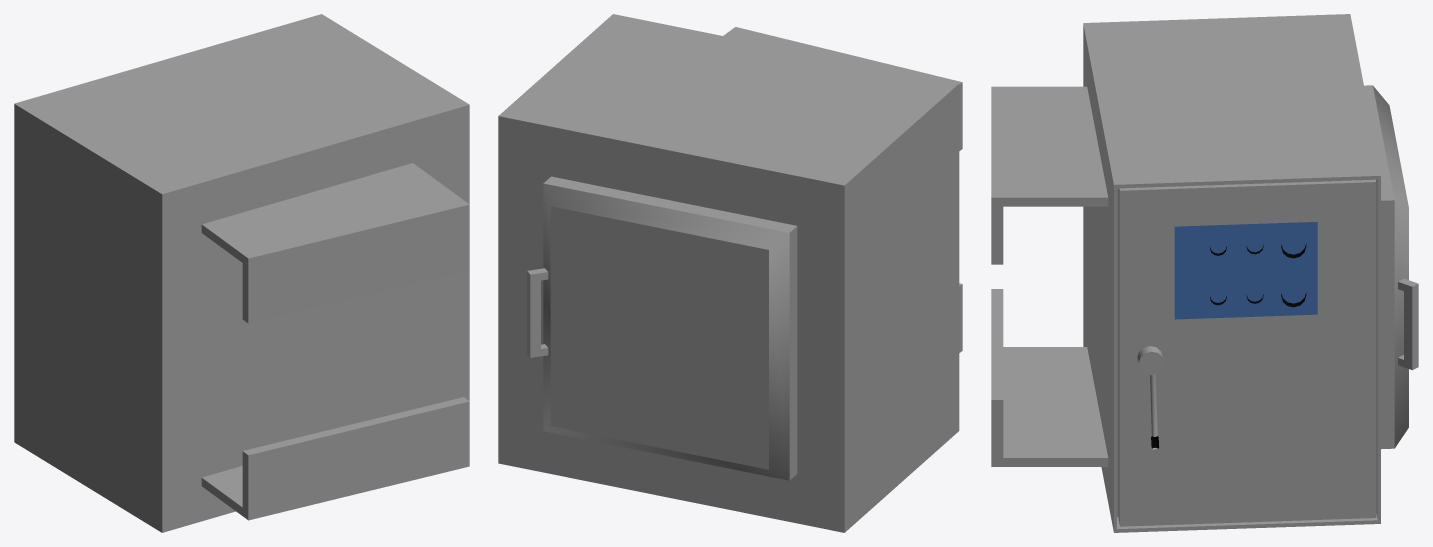
3 renders of one model, left to right at view 1: azimuth 30°, elevation 25°; view 2: azimuth 150°, elevation 25°; view 3: azimuth 270°, elevation 25°, orthographic. The views are drawn at different scales.
Visible parts, largest first — view 1: Cube.001; view 2: Cube.001; view 3: Cube.001.
Boxes of the visible parts, <box> form: Cube.001: <box>14,14,469,532</box>; Cube.001: <box>498,14,962,532</box>; Cube.001: <box>991,14,1418,532</box>.
Size of the model in its own units: 70.43 by 65 by 72.35.
